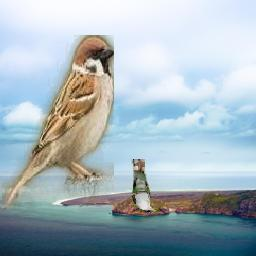Cuckoo: (132, 159, 161, 213)
Sparrow: (2, 36, 114, 211)
